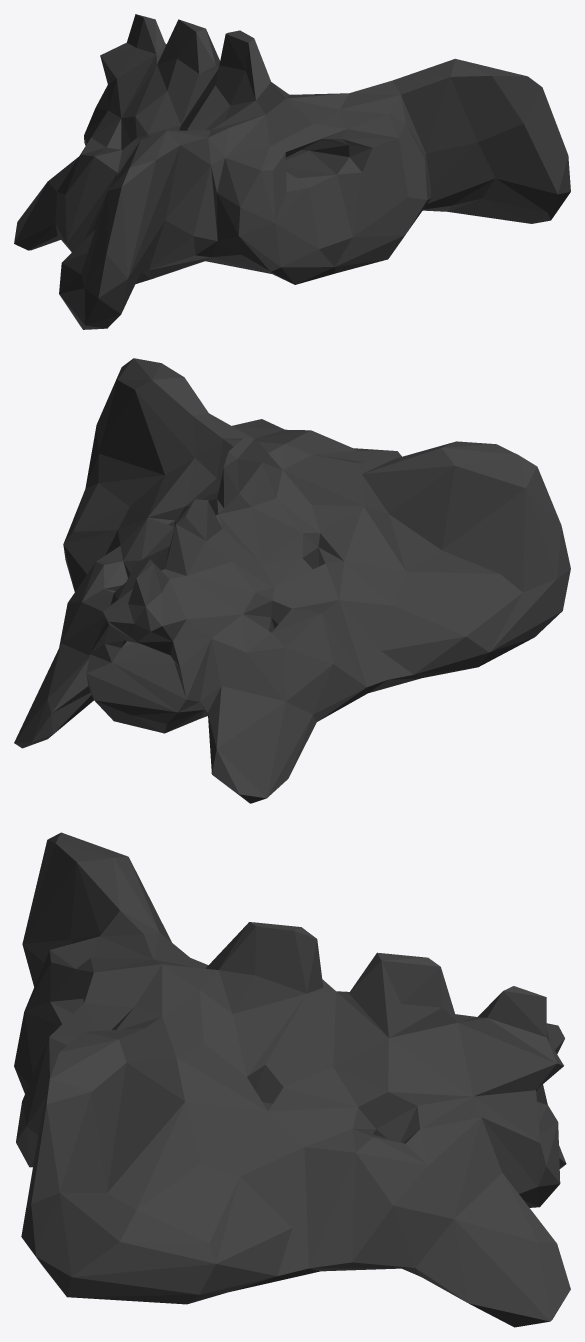
Rendered from Spine_sacrum.glb.
The picture shows the model from 3 angles, top to bottom: view 1: azimuth 30°, elevation 25°; view 2: azimuth 150°, elevation 25°; view 3: azimuth 270°, elevation 25°; orthographic projection. The views are drawn at different scales.
Visible parts, largest first — view 1: Spine_sacrum; view 2: Spine_sacrum; view 3: Spine_sacrum.
Boxes of the visible parts, x1,y1,x2,y2 form: Spine_sacrum: (14, 14, 570, 329); Spine_sacrum: (14, 358, 570, 803); Spine_sacrum: (14, 832, 570, 1327).
Bounding box in the file's own units: 0.00205 × 0.00107 × 0.00163.
Materials: 1 (1 with a texture image).
